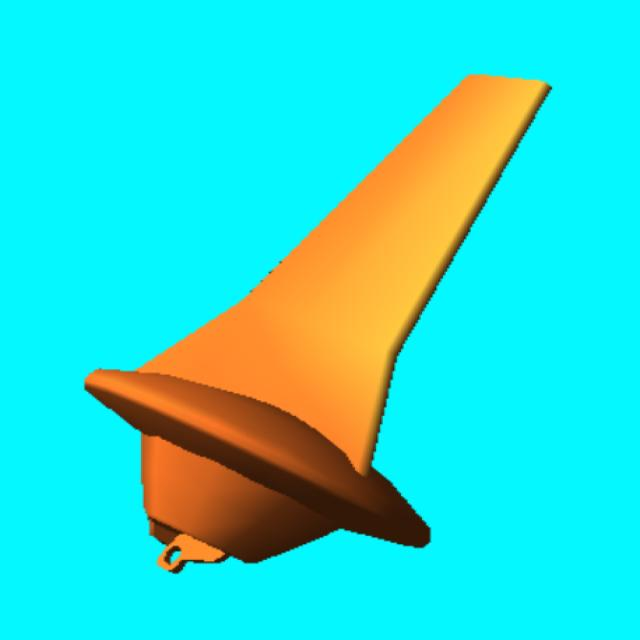OrangeBuoy: (86, 75, 549, 571)
